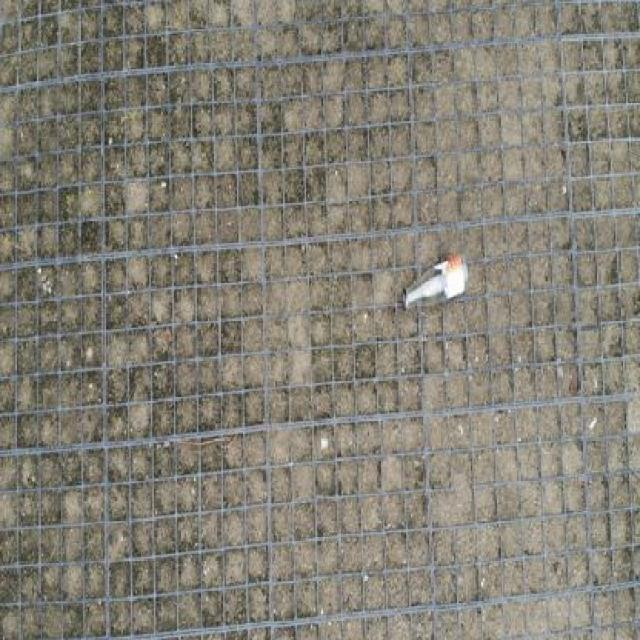Garbage: (401, 251, 470, 312)
